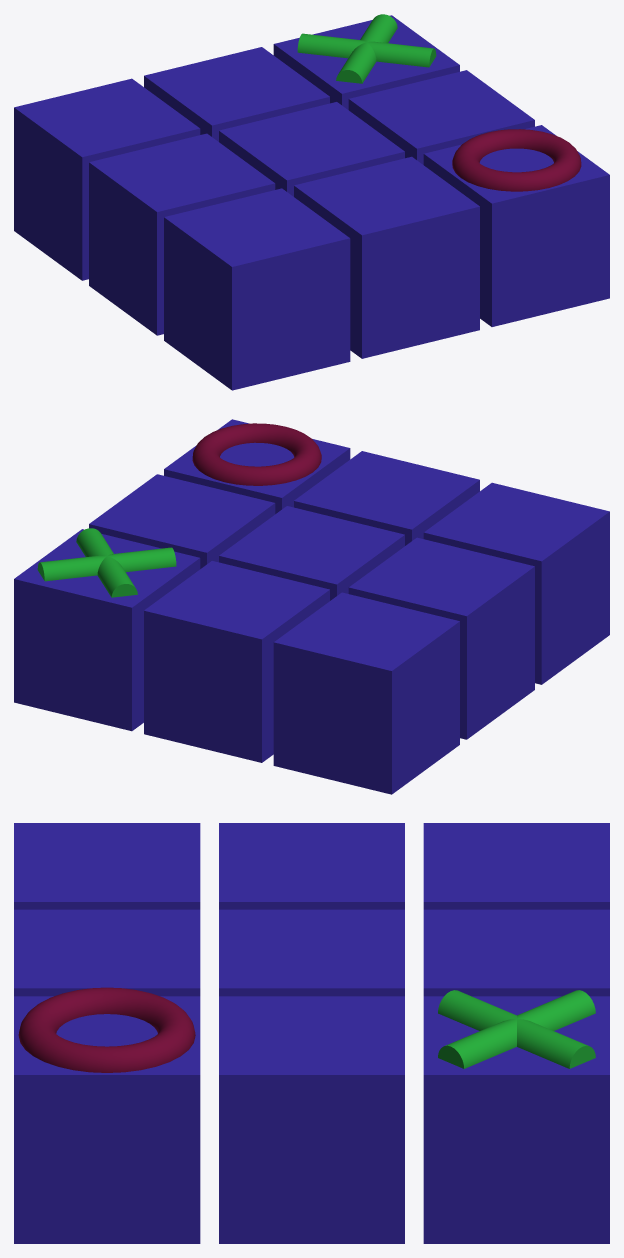
The model's file is tictactoc.glb.
3 views of the same model, one above another, from view 1: azimuth 30°, elevation 25°; view 2: azimuth 150°, elevation 25°; view 3: azimuth 270°, elevation 25° (orthographic). The views are drawn at different scales.
Visible parts, largest first — view 1: box2, box1, proto, box8, box5, box7, box4, box3, box6, torusmain, meshmain; view 2: box8, box7, box6, box5, box2, box1, box4, box3, torusmain, proto, meshmain; view 3: box3, box6, proto, box4, box2, box8, box7, box5, box1, torusmain, meshmain.
Boxes of the visible parts, x1,y1,x2,y2 form: box2: (164,188,350,390); box1: (294,156,479,358); proto: (423,125,609,326); box8: (14,78,200,280); box5: (89,133,275,335); box7: (144,47,329,141); box4: (219,102,404,196); box3: (348,70,534,164); box6: (273,15,459,109); torusmain: (452,129,581,191); meshmain: (297,14,436,83); box8: (273,592,459,794); box7: (144,561,329,762); box6: (14,529,200,731); box5: (348,537,534,739); box2: (423,482,609,684); box1: (294,451,479,545); box4: (219,506,404,600); box3: (89,474,275,568); torusmain: (192,423,321,485); proto: (164,419,350,513); meshmain: (37,528,176,597); box3: (219,996,404,1243); box6: (423,996,609,1243); proto: (14,996,200,1243); box4: (219,909,404,996); box2: (14,823,200,909); box8: (423,823,609,909); box7: (423,909,609,996); box5: (219,823,404,909); box1: (14,909,200,996); torusmain: (18,987,195,1072); meshmain: (438,990,595,1068).
Bounding box in the file's own units: 3.2 × 1.1 × 3.2.
